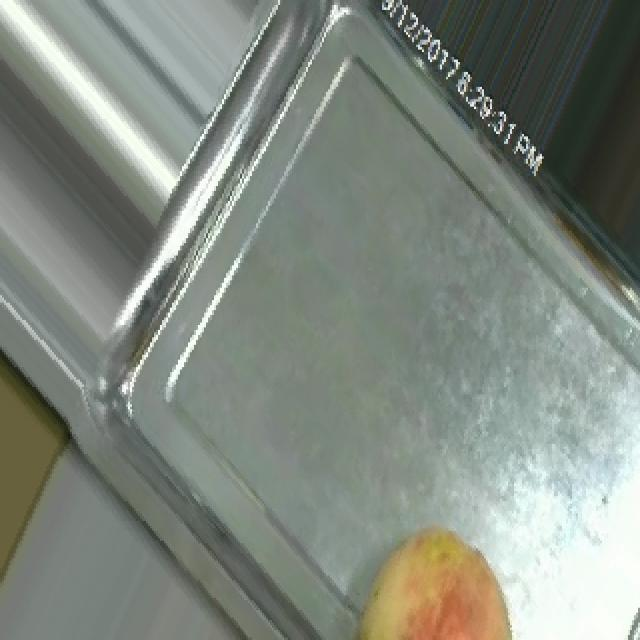Fruit: (324, 498, 548, 640), (0, 315, 84, 610)
